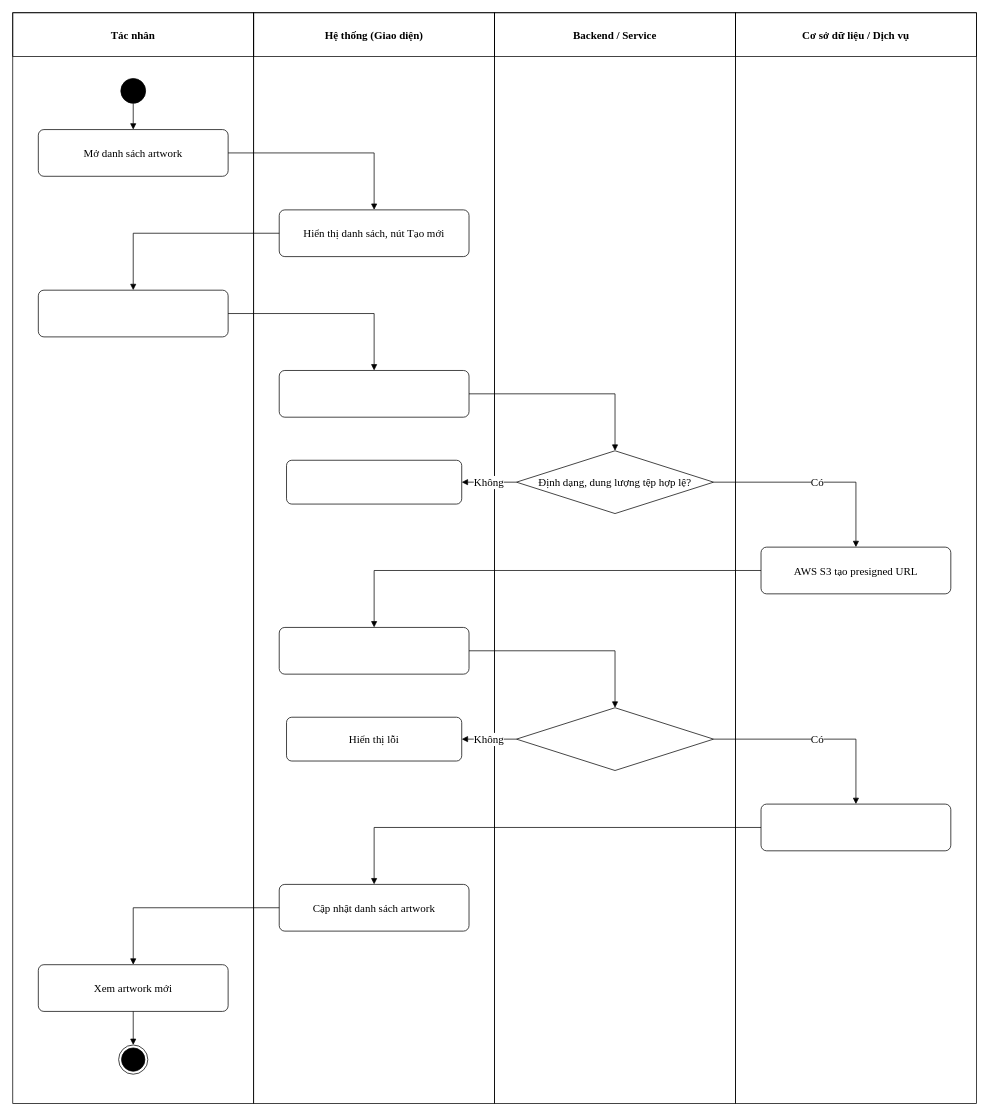
This 989x1116 diagram has some shape labels left out. Here are the shapes that lost their labels. From the top down, the centre of each, then its label:
At [133,313]: "Nhập tên, danh mục, chọn tệp ảnh".
At [373,393]: "Yêu cầu presigned URL".
At [374,482]: "Báo lỗi tệp không hợp lệ".
At [373,650]: "Tải ảnh trực tiếp lên S3, gửi createArtwork".
At [615,739]: "Dữ liệu và quyền hợp lệ?".
At [855,827]: "Lưu artwork và phiên bản v1".
